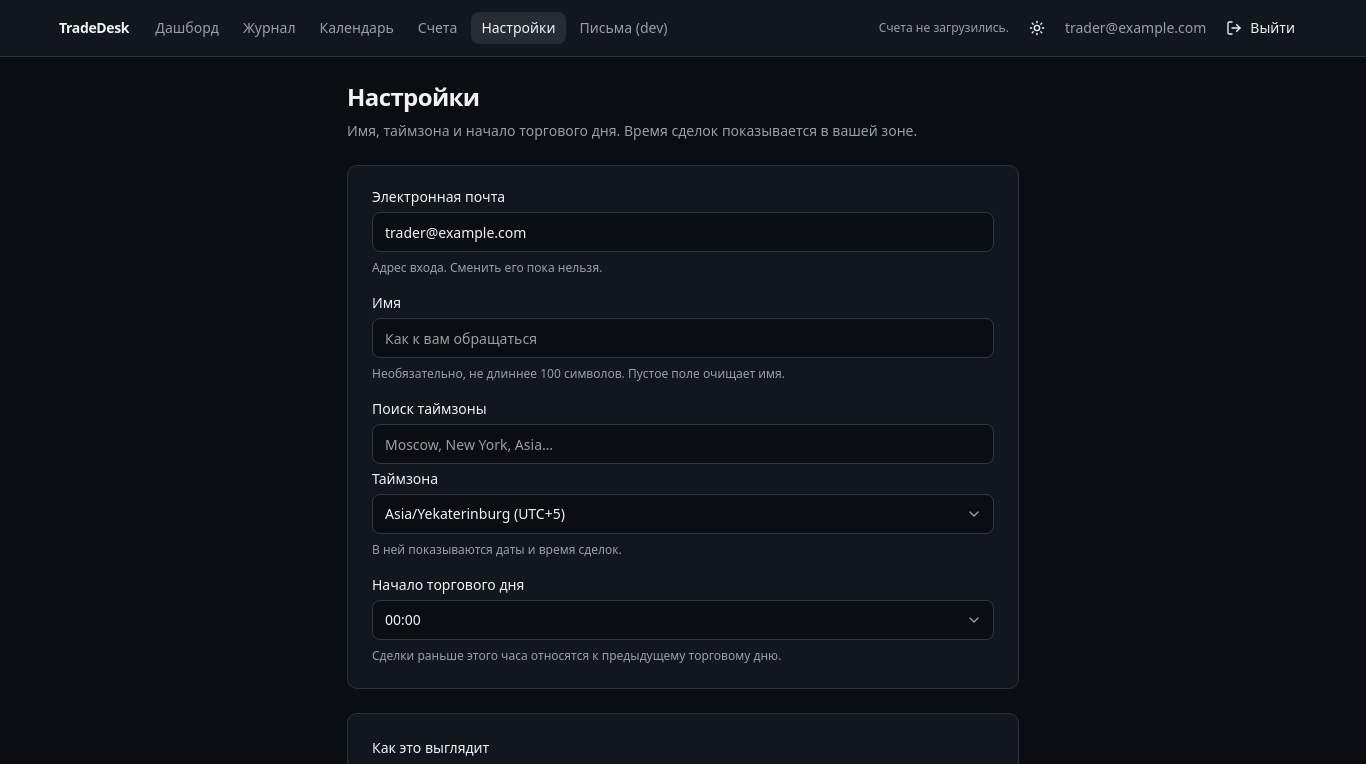
Test: /settings › оборванная сеть объясняется человеку, значения формы остаются
Type "Ник" into the field labelled "Имя".
click(683, 338); type("Ник")  # box [372, 318, 994, 358]
(page scrolled)
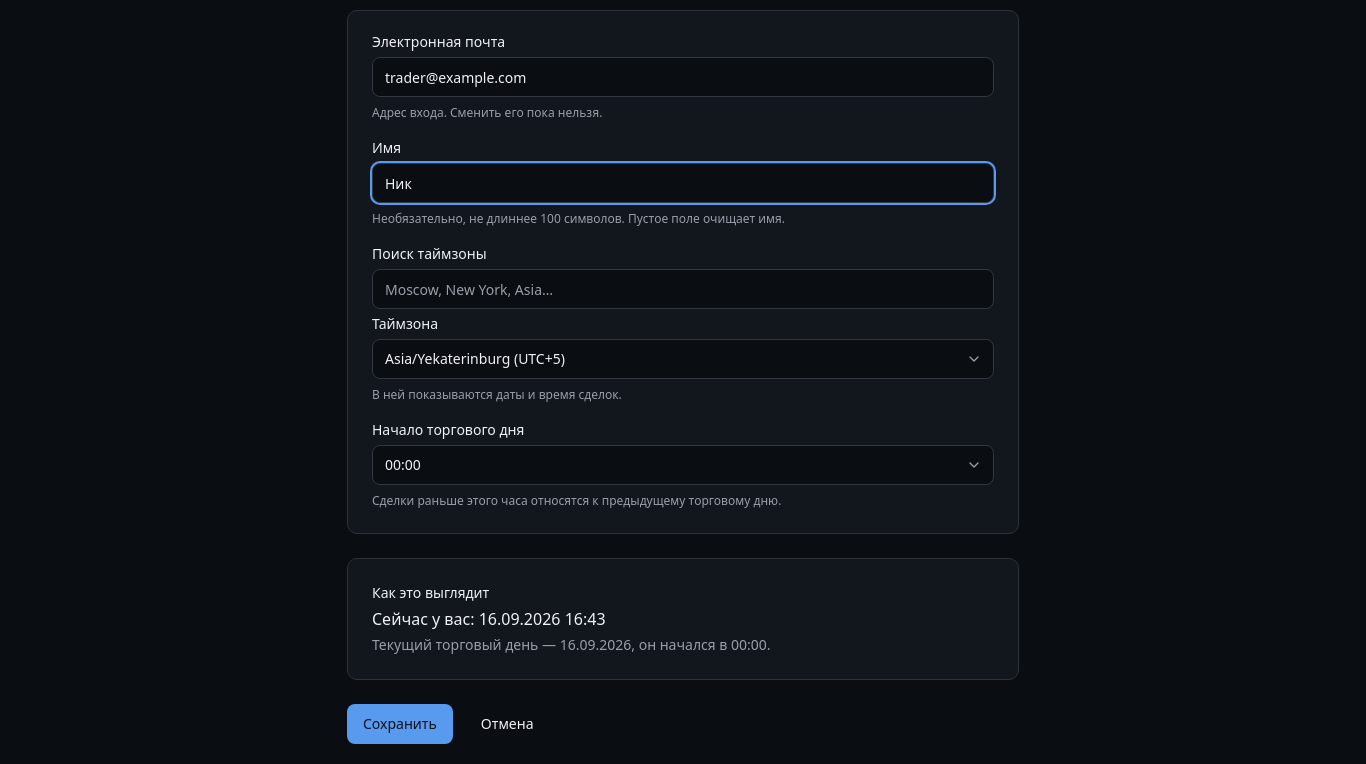
Click the button "Сохранить".
click(400, 724)  # box [347, 704, 453, 744]
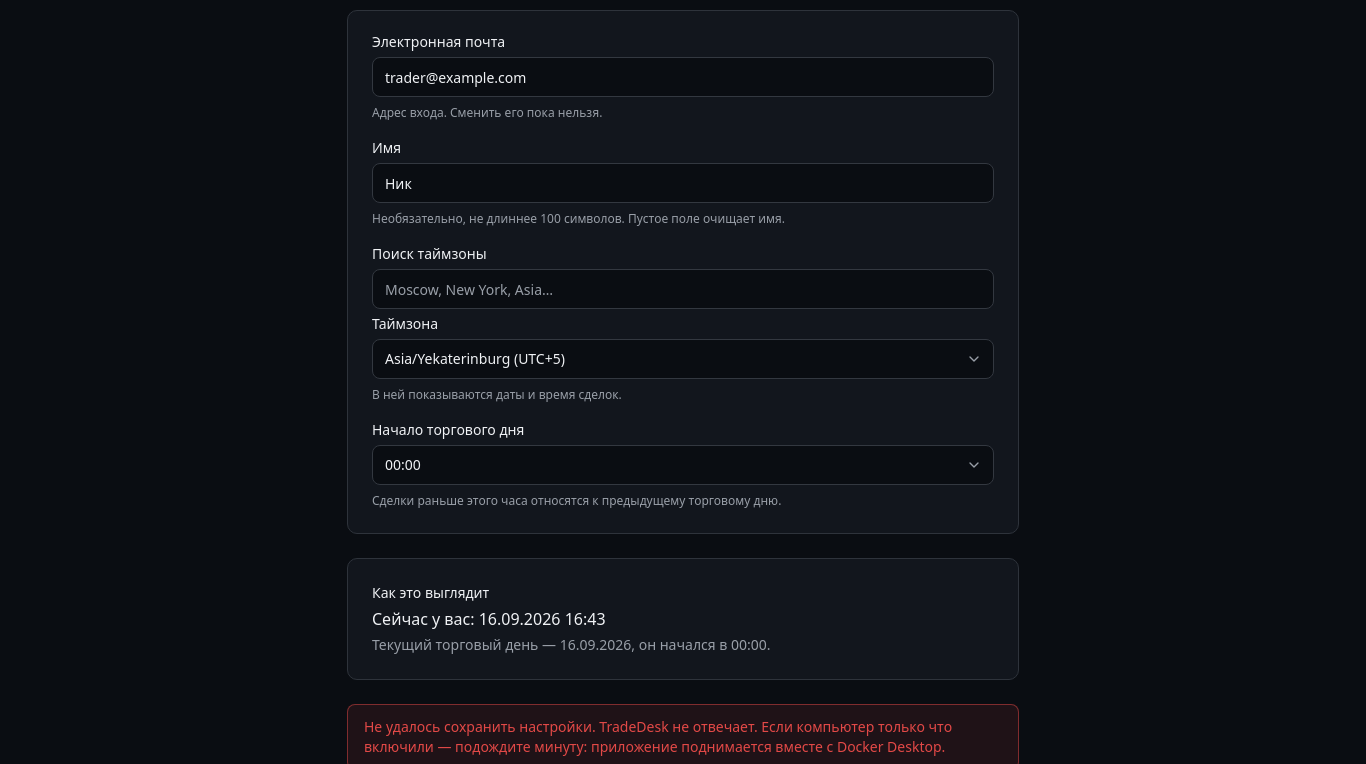
Now the message shows "Не удалось сохранить настройки.", box [364, 717, 596, 736]
Now the message shows "TradeDesk не отвечает. Если компьютер только что включили — подождите минуту: приложение поднимается вместе с Docker Desktop.", box [364, 717, 952, 756]
